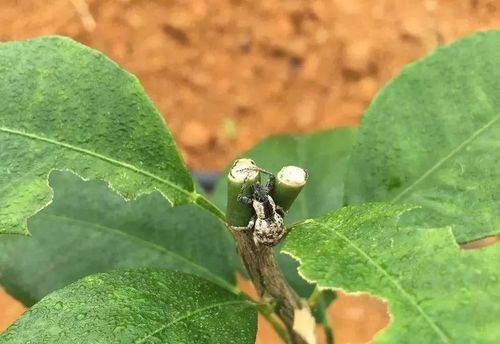Curculionidae: (226, 165, 288, 253)
